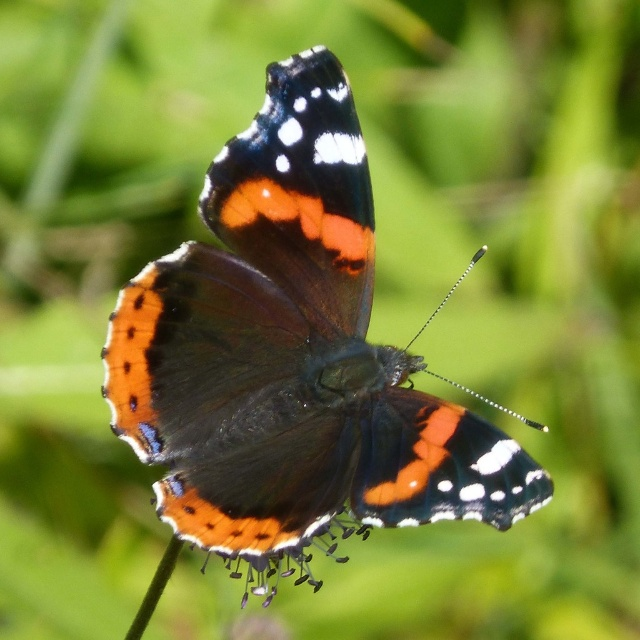Butterfly: (104, 43, 563, 598)
